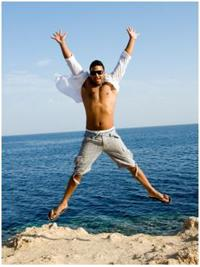person: (49, 24, 170, 222)
